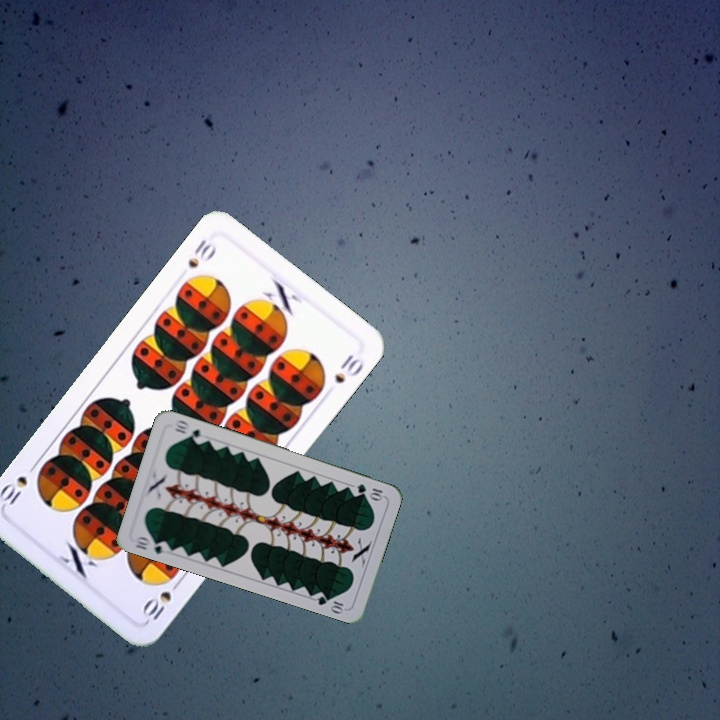G10: (131, 532, 172, 557), (352, 480, 386, 502)
S10: (138, 575, 185, 623), (184, 234, 220, 271)
